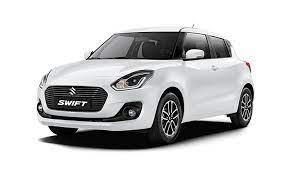Hatchback: (33, 25, 252, 146)
